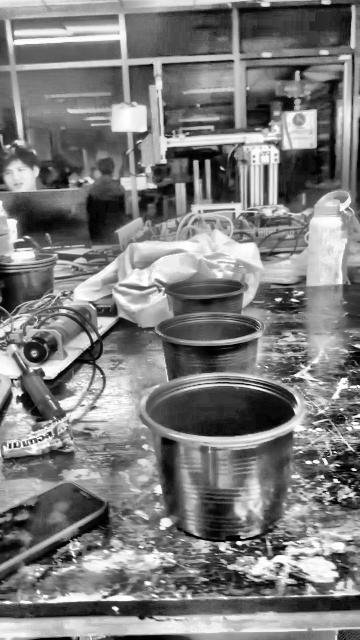pot: (139, 378, 298, 541), (155, 312, 264, 379), (0, 258, 58, 312), (166, 279, 247, 315)
